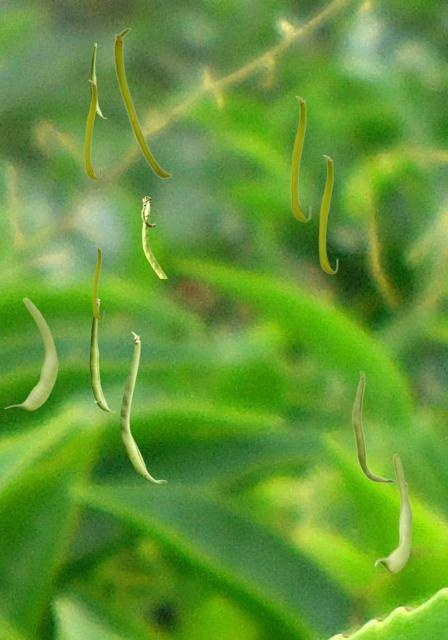french_bean: (113, 27, 171, 178), (120, 331, 166, 482), (4, 296, 57, 409), (351, 370, 395, 483), (374, 453, 411, 572), (89, 298, 115, 411), (290, 95, 310, 221), (318, 154, 337, 273), (141, 196, 166, 277), (84, 79, 100, 179), (90, 43, 106, 117), (92, 245, 103, 319)
